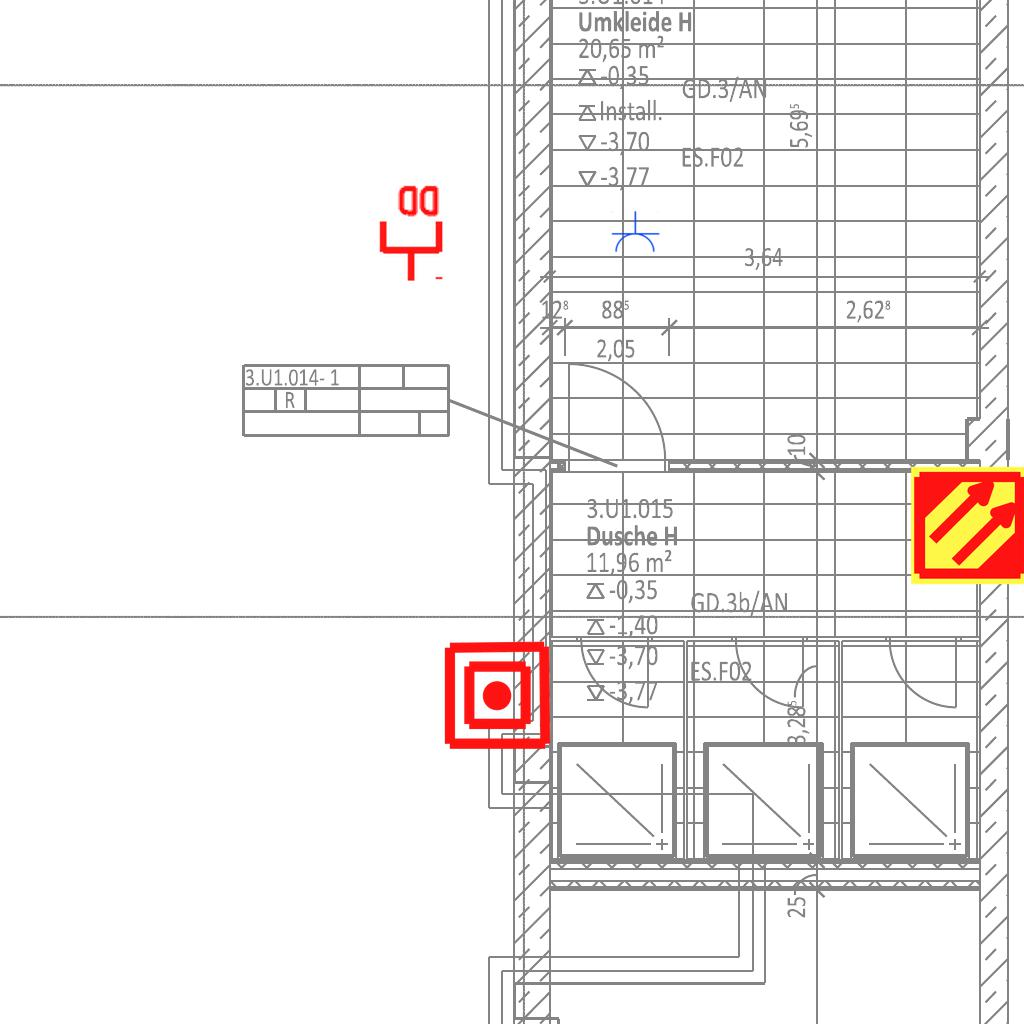ASR_Ansaugrauchmelder: (909, 463, 1024, 588)
Datenanschluss_zweifach: (375, 181, 444, 284)
NAM-Nichtautomatischer_Melder: (441, 639, 554, 752)
Schukosteckdose_einfach: (610, 211, 660, 254)
